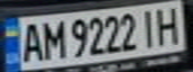2: (118, 9, 142, 53), (87, 14, 109, 57), (103, 11, 124, 55)
9: (66, 15, 90, 58)
A: (15, 19, 45, 63)
H: (151, 2, 187, 46)
I: (136, 7, 160, 48)
M: (39, 17, 66, 60)
